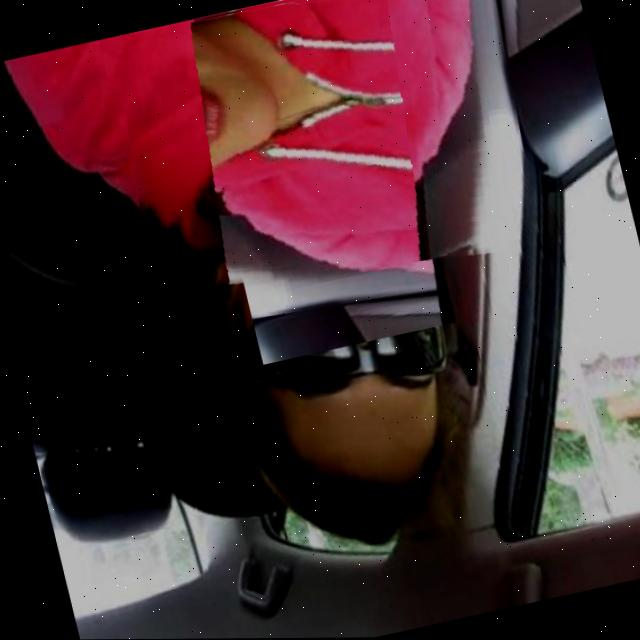no-seatbelt: (97, 0, 520, 317)
